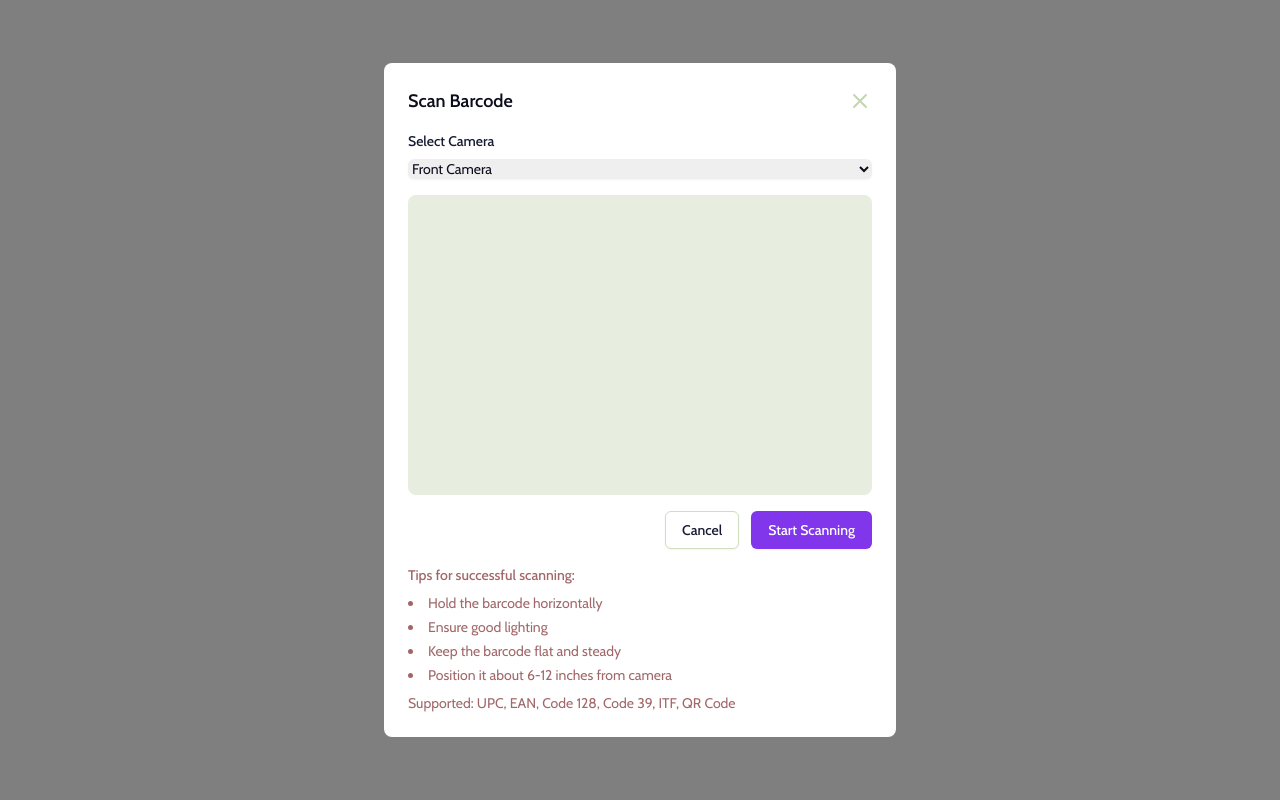
Test: BarcodeScanner › starts scanning and reports a decoded barcode
Click the button "Start Scanning".
click(812, 530)  # box [751,511,872,549]
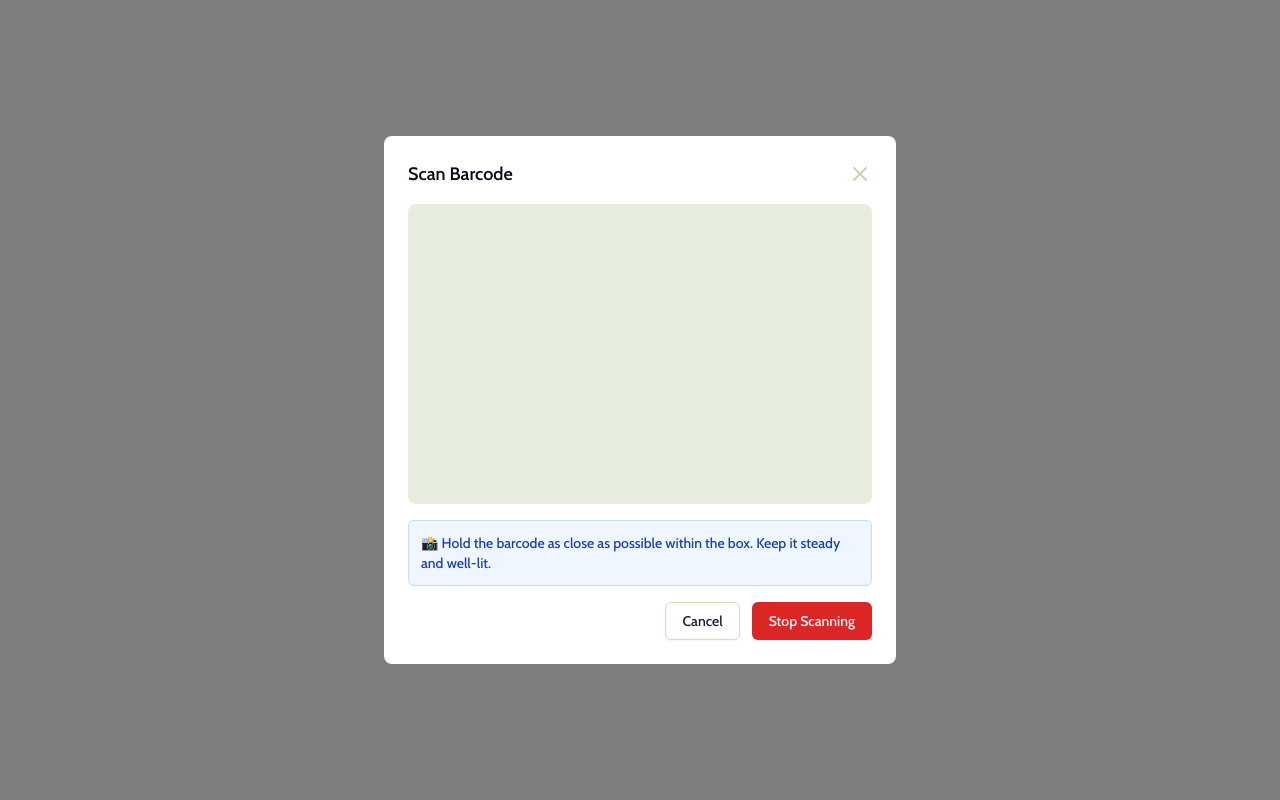
Check: the button "Stop Scanning" is shown, box [752,602,872,640]
